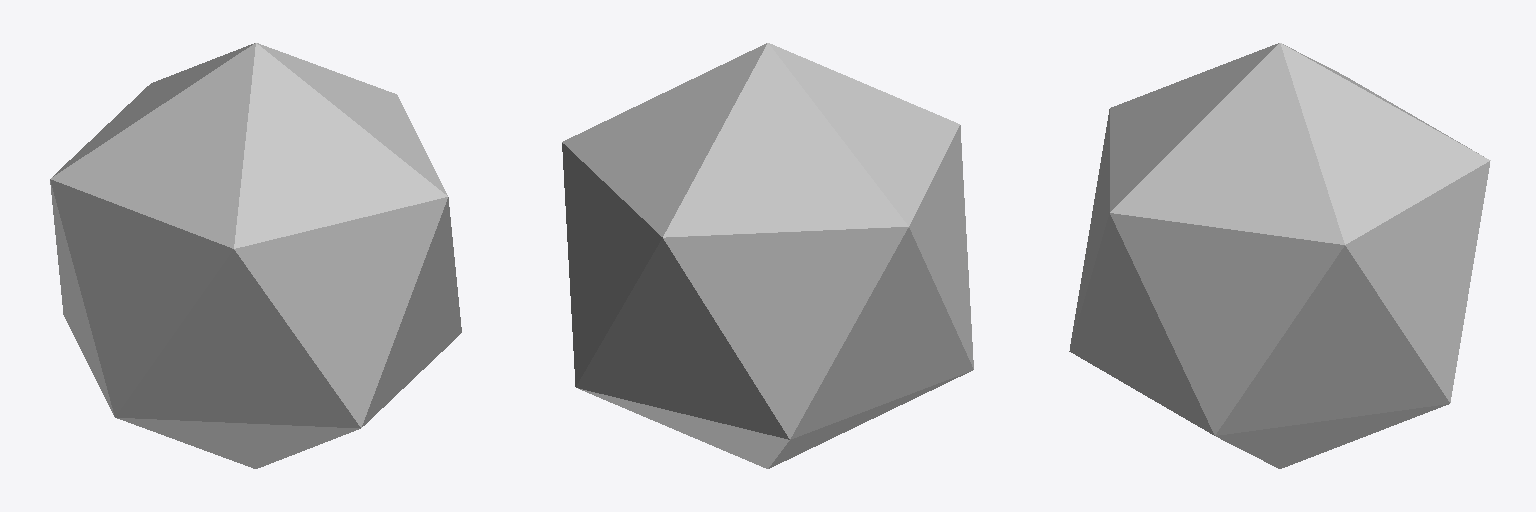
Rendered from icosahedron.obj.
3 views of the same model, side by side, from view 1: azimuth 30°, elevation 25°; view 2: azimuth 150°, elevation 25°; view 3: azimuth 270°, elevation 25° (orthographic).
Parts seen in each view (by area): view 1: icosahedron.obj; view 2: icosahedron.obj; view 3: icosahedron.obj.
Part boxes in pixels (bbox=[...]): icosahedron.obj: bbox=[50, 43, 461, 468]; icosahedron.obj: bbox=[562, 43, 973, 468]; icosahedron.obj: bbox=[1069, 43, 1490, 468].
Size of the model in its own units: 0.8507 by 1 by 0.8944.